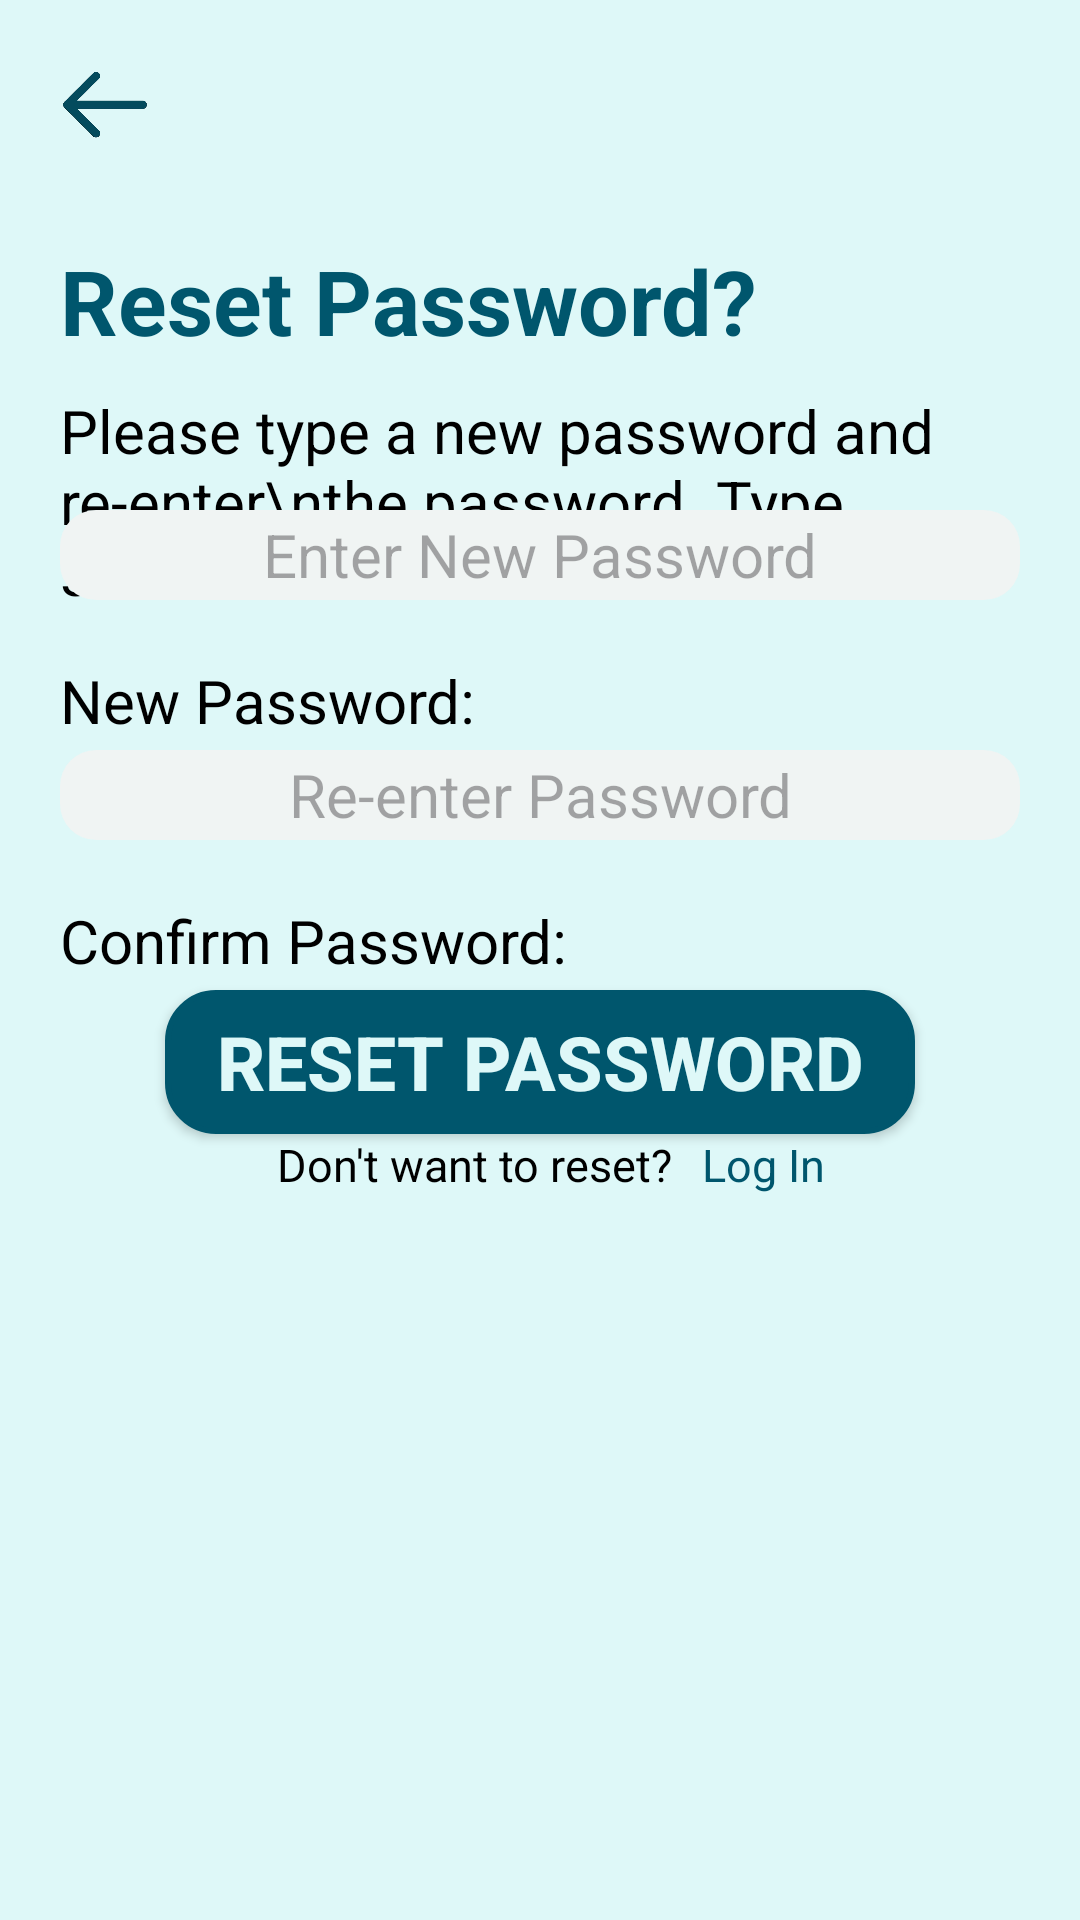

Icon bounding boxes for this 1080 x 1920 phone screenshot, format (x1, y1, x2, y2):
backarrow: (63, 72, 147, 138)
